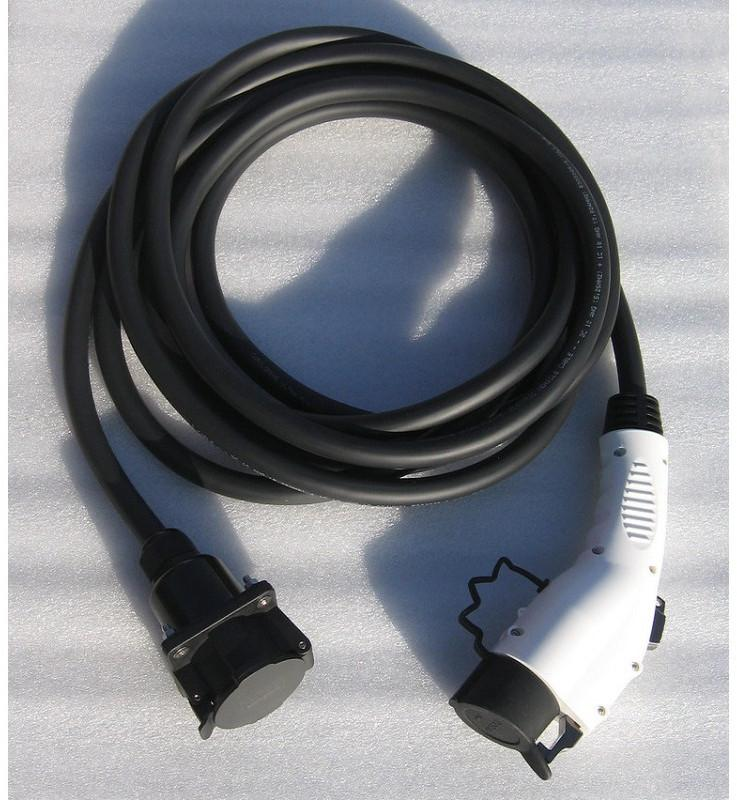Nonrec_Tangler: (49, 26, 662, 742)
